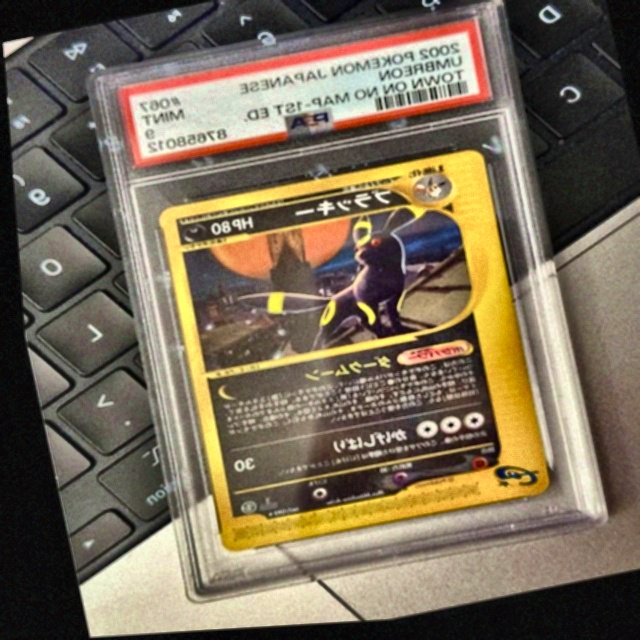card: (152, 154, 541, 553)
